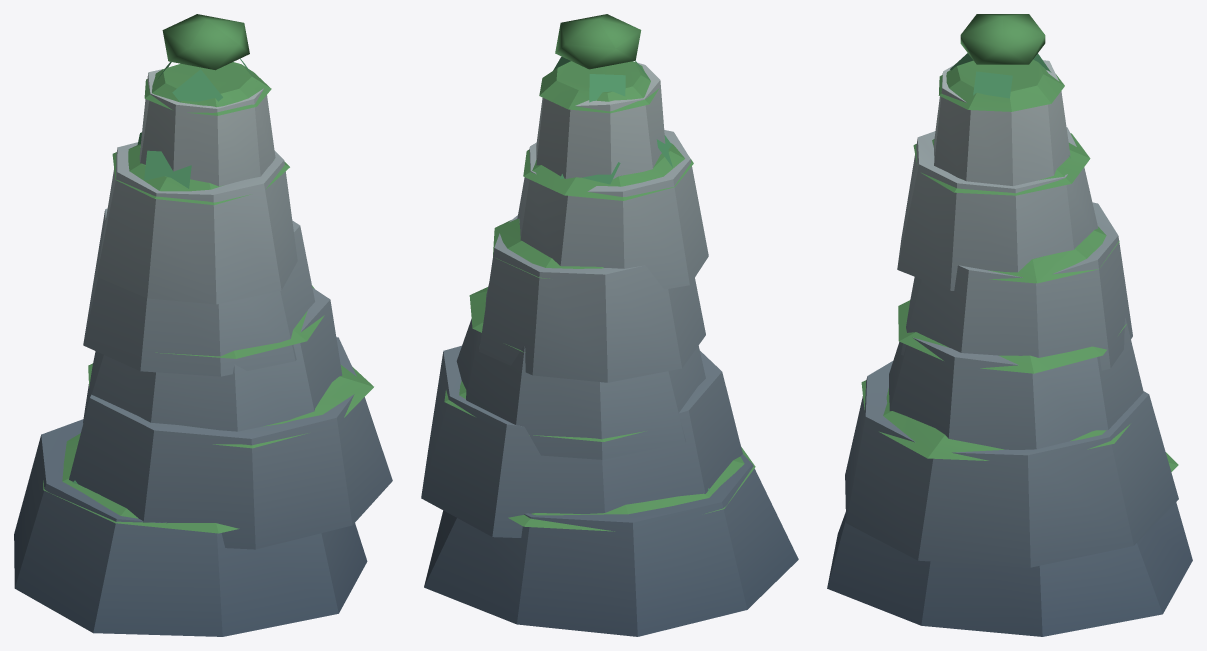
Rendered from karst_a.glb.
3 renders of one model, left to right at view 1: azimuth 30°, elevation 25°; view 2: azimuth 150°, elevation 25°; view 3: azimuth 270°, elevation 25°, orthographic. The views are drawn at different scales.
Parts seen in each view (by area): view 1: Karst, Leaves; view 2: Karst, Leaves; view 3: Karst, Leaves.
Boxes of the visible parts, x1=… form: Karst: x1=14, y1=14, x2=392, y2=636; Leaves: x1=72, y1=58, x2=254, y2=483; Karst: x1=421, y1=14, x2=798, y2=636; Leaves: x1=553, y1=56, x2=709, y2=491; Karst: x1=827, y1=14, x2=1192, y2=636; Leaves: x1=950, y1=53, x2=1070, y2=157.
Size of the model in its own units: 20.96 by 32.85 by 19.83.
